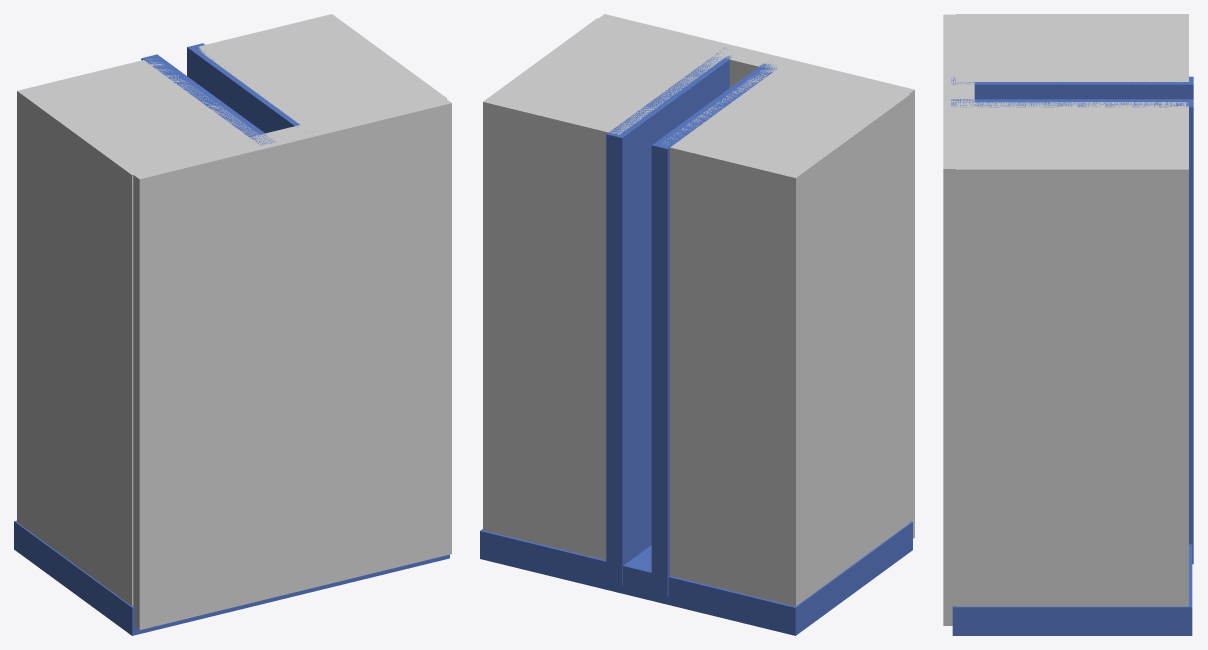
File: marinha_branco_saia.glb
3 renders of one model, left to right at view 1: azimuth 30°, elevation 25°; view 2: azimuth 150°, elevation 25°; view 3: azimuth 270°, elevation 25°, orthographic. The views are drawn at different scales.
Parts seen in each view (by area): view 1: marinha_branco_saia; view 2: marinha_branco_saia; view 3: marinha_branco_saia.
Part boxes in pixels (bbox=[...]): marinha_branco_saia: bbox=[14, 14, 451, 635]; marinha_branco_saia: bbox=[480, 14, 914, 635]; marinha_branco_saia: bbox=[943, 14, 1193, 635].
Size of the model in its own units: 0.59 by 0.815 by 0.3975.
